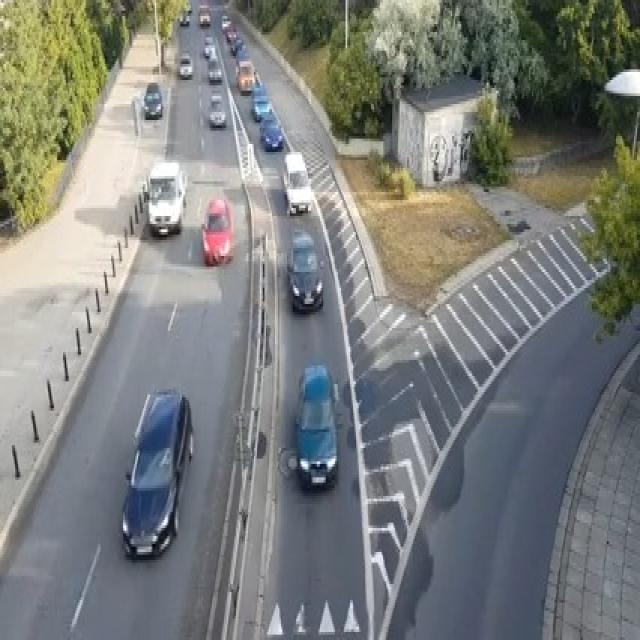car: (120, 387, 194, 560), (291, 363, 338, 488), (285, 229, 323, 312), (148, 160, 186, 235), (202, 195, 232, 264), (281, 150, 312, 213), (258, 110, 282, 150), (234, 59, 256, 93), (143, 80, 162, 117), (208, 93, 225, 128), (251, 93, 272, 120), (179, 51, 192, 77), (207, 58, 221, 82), (198, 2, 210, 26), (203, 35, 215, 56), (232, 35, 244, 53), (225, 24, 236, 43), (221, 13, 230, 30), (179, 11, 189, 24), (185, 0, 191, 13)
